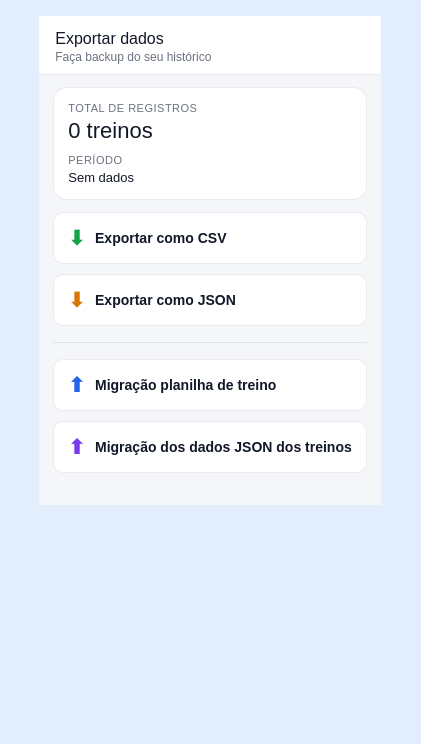
Test: ImportarBackupJson › confirmar fica desabilitado sem arquivo
This screenshot has width=421, height=744.
Click the button "⬆ Migração dos dados JSON dos treinos": click(210, 447) [53, 421, 367, 473]
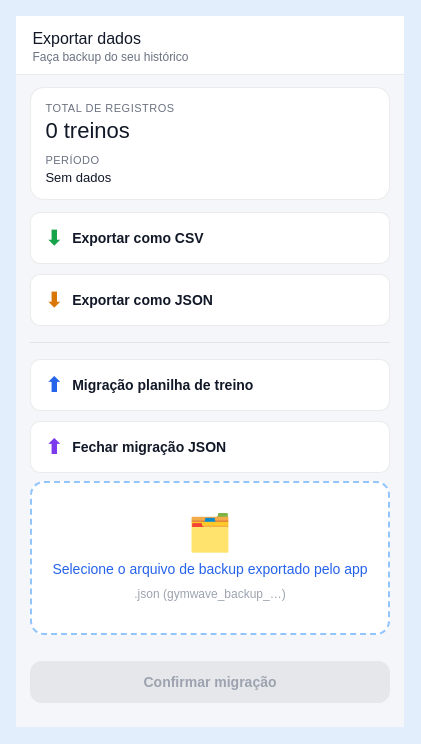
Result: the button "Confirmar migração" is disabled at [30, 661, 390, 703]
